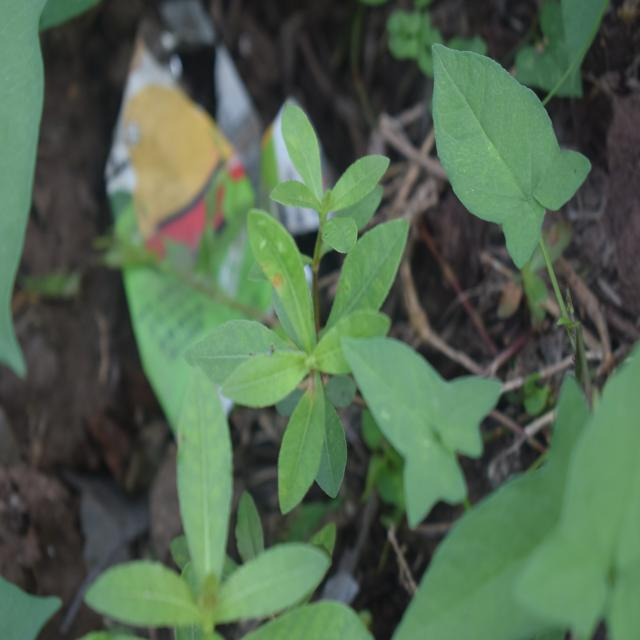Alligatorweed: (208, 104, 414, 488)
